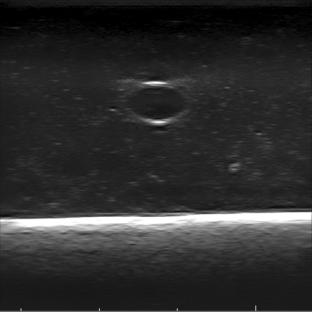vessel: (125, 80, 190, 125)
